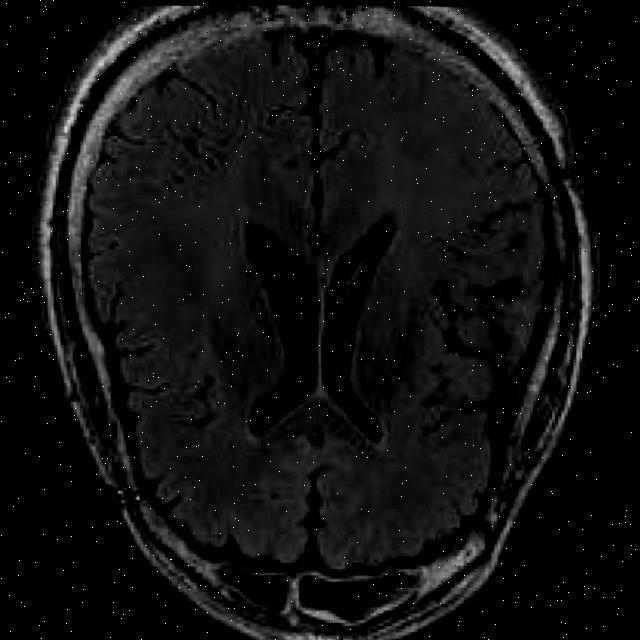NoTumor: (61, 1, 566, 582)
